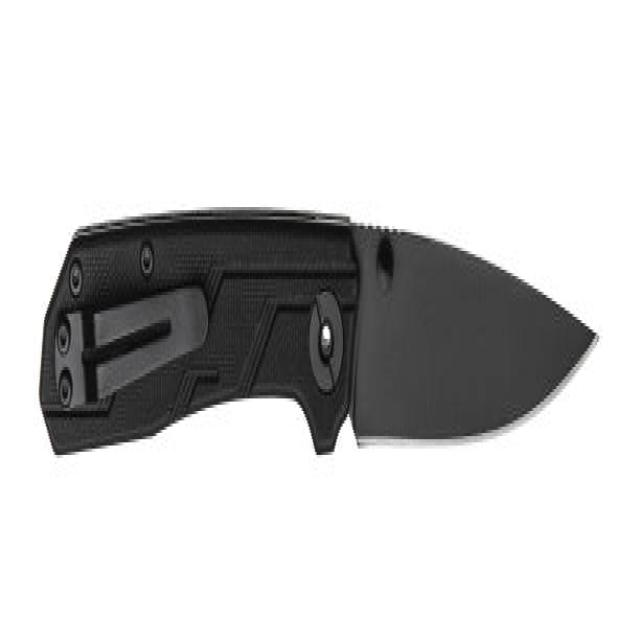knife: (37, 210, 601, 468)
